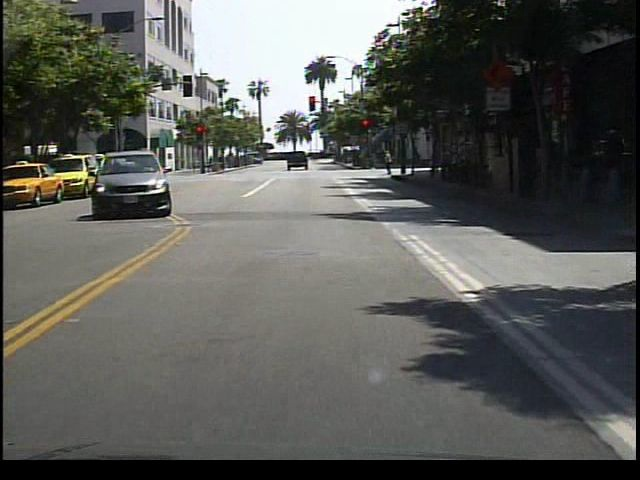person: (412, 144, 427, 174), (384, 149, 399, 176)
